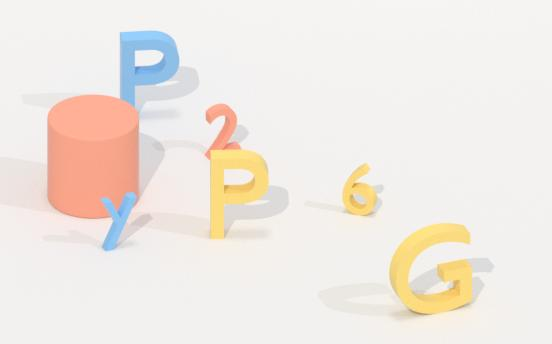2: (199, 101, 248, 162)
6: (340, 162, 383, 217)
G-hoa: (386, 221, 480, 319)
Y: (95, 190, 142, 251)
p: (206, 153, 273, 240), (115, 27, 182, 112)
tru: (43, 97, 142, 217)
